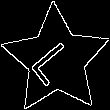L_NE: (27, 32, 85, 88)
